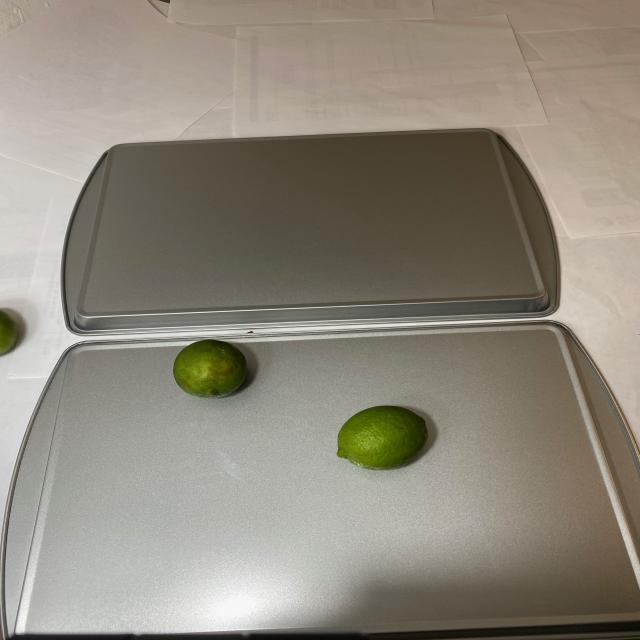lemon: (330, 401, 430, 473), (166, 340, 254, 401)
